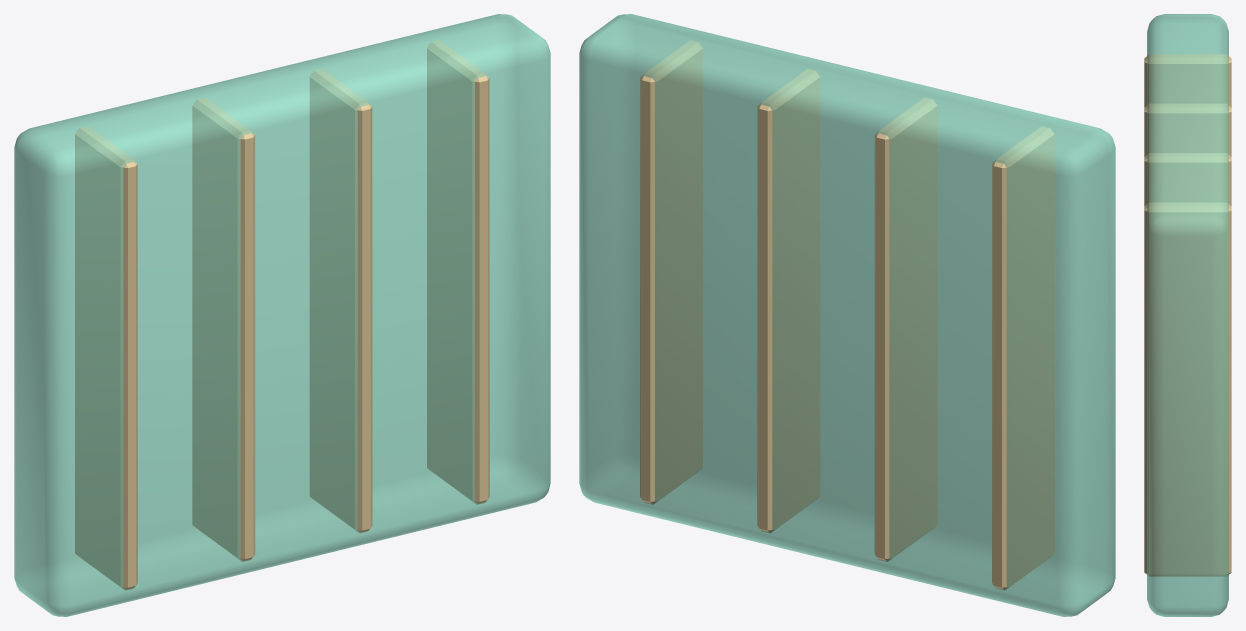
Rendered from GateSlab.fbx.
The picture shows the model from 3 angles, left to right: view 1: azimuth 30°, elevation 25°; view 2: azimuth 150°, elevation 25°; view 3: azimuth 270°, elevation 25°; orthographic projection. The views are drawn at different scales.
Visible parts, largest first — view 1: Slab, Bar3, Bar0, Bar2, Bar1; view 2: Slab, Bar3, Bar0, Bar2, Bar1; view 3: Slab, Bar3, Bar2, Bar0, Bar1.
Part boxes in pixels (left/top/right/bottom): Slab: left=14, top=14, right=550, bottom=616; Bar3: left=427, top=40, right=489, bottom=504; Bar0: left=75, top=126, right=137, bottom=590; Bar2: left=310, top=69, right=372, bottom=532; Bar1: left=192, top=98, right=254, bottom=561; Slab: left=579, top=14, right=1115, bottom=616; Bar3: left=640, top=40, right=702, bottom=504; Bar0: left=992, top=126, right=1054, bottom=590; Bar2: left=757, top=69, right=819, bottom=532; Bar1: left=875, top=98, right=937, bottom=561; Slab: left=1147, top=14, right=1228, bottom=616; Bar3: left=1144, top=203, right=1231, bottom=576; Bar2: left=1144, top=153, right=1231, bottom=206; Bar0: left=1144, top=54, right=1231, bottom=107; Bar1: left=1144, top=104, right=1231, bottom=156.
Size of the model in its own units: 0.86 by 0.76 by 0.15.
